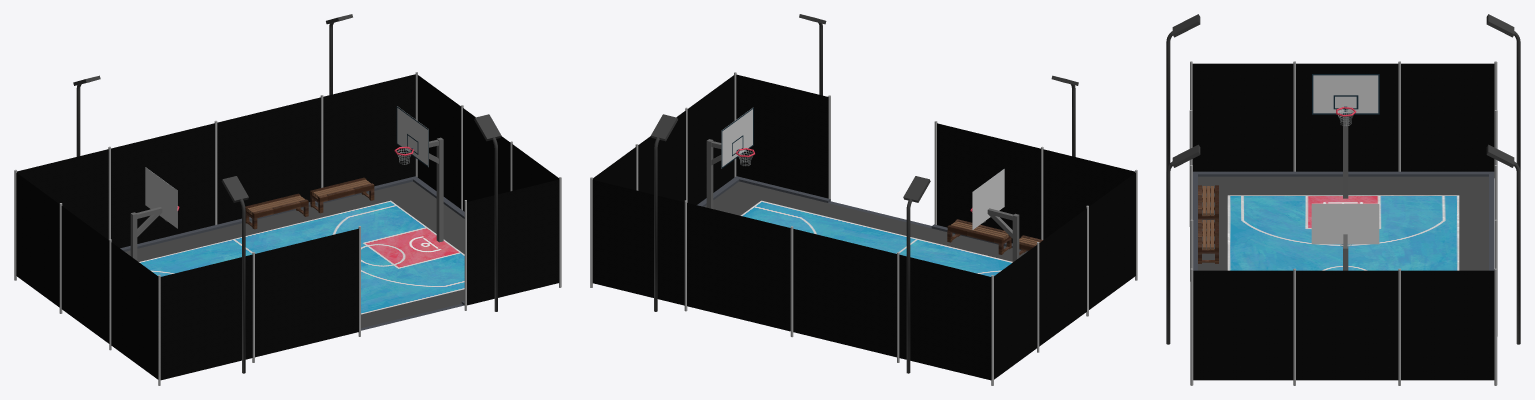
Rendered from BasketballCourt.glb.
3 views of the same model, side by side, from view 1: azimuth 30°, elevation 25°; view 2: azimuth 150°, elevation 25°; view 3: azimuth 270°, elevation 25° (orthographic). The views are drawn at different scales.
Visible parts, largest first — view 1: Fence, Court, Ground1, Posts, Ground2, Chair2, Backboard1, Backboard2, LightPole1, LightPole2, NetPost2, NetPost1 (+2 smaller); view 2: Fence, Court, Ground1, Posts, LightPole3, Backboard1, Ground2, Backboard2, LightPole4, Chair1, NetPost1, NetPost2; view 3: Fence, Court, Ground1, Posts, Backboard2, Ground2, Backboard1, LightPole4, LightPole2, LightPole3, LightPole1, Chair1 (+3 smaller).
Boxes of the visible parts, x1=… form: Fence: x1=16, y1=74, x2=559, y2=380; Court: x1=139, y1=200, x2=464, y2=314; Ground1: x1=125, y1=181, x2=464, y2=328; Posts: x1=14, y1=72, x2=561, y2=385; Ground2: x1=120, y1=176, x2=464, y2=330; Chair2: x1=245, y1=177, x2=374, y2=229; Backboard1: x1=145, y1=167, x2=177, y2=228; Backboard2: x1=397, y1=106, x2=428, y2=166; LightPole1: x1=221, y1=176, x2=248, y2=373; LightPole2: x1=474, y1=114, x2=501, y2=311; NetPost2: x1=429, y1=137, x2=443, y2=242; NetPost1: x1=130, y1=207, x2=162, y2=260; Fence: x1=592, y1=74, x2=1135, y2=380; Court: x1=740, y1=200, x2=1012, y2=276; Ground1: x1=704, y1=181, x2=1027, y2=261; Posts: x1=590, y1=72, x2=1137, y2=385; LightPole3: x1=903, y1=176, x2=930, y2=373; Backboard1: x1=972, y1=169, x2=1004, y2=229; Ground2: x1=697, y1=176, x2=1027, y2=251; Backboard2: x1=721, y1=108, x2=752, y2=168; LightPole4: x1=651, y1=114, x2=677, y2=311; Chair1: x1=947, y1=219, x2=1042, y2=255; NetPost1: x1=987, y1=208, x2=1019, y2=262; NetPost2: x1=706, y1=139, x2=721, y2=208; Fence: x1=1192, y1=63, x2=1494, y2=380; Court: x1=1227, y1=195, x2=1459, y2=270; Ground1: x1=1198, y1=176, x2=1488, y2=270; Posts: x1=1189, y1=61, x2=1497, y2=385; Backboard2: x1=1311, y1=203, x2=1379, y2=244; Ground2: x1=1193, y1=171, x2=1494, y2=270; Backboard1: x1=1313, y1=75, x2=1378, y2=113; LightPole4: x1=1486, y1=144, x2=1520, y2=344; LightPole2: x1=1166, y1=144, x2=1200, y2=344; LightPole3: x1=1486, y1=14, x2=1520, y2=171; LightPole1: x1=1166, y1=14, x2=1200, y2=171; Chair1: x1=1198, y1=185, x2=1218, y2=263.
Bounding box in the file's own units: 35.8 × 15.89 × 25.7.
Materials: 16 (5 with a texture image).
